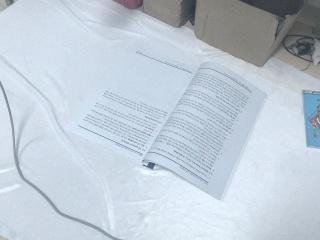book: (299, 88, 320, 153)
box: (193, 1, 309, 68), (142, 1, 198, 28)
